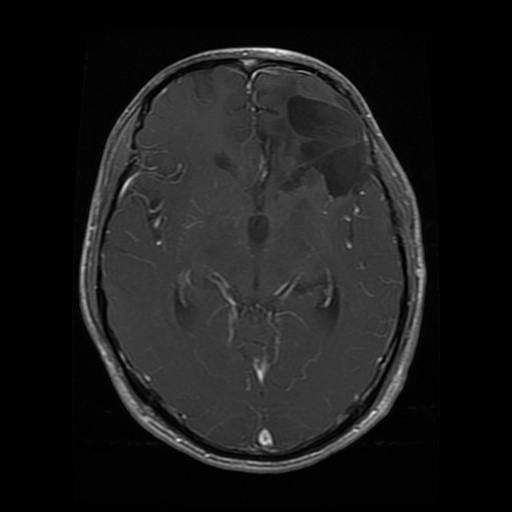glioma: (279, 93, 368, 196)
